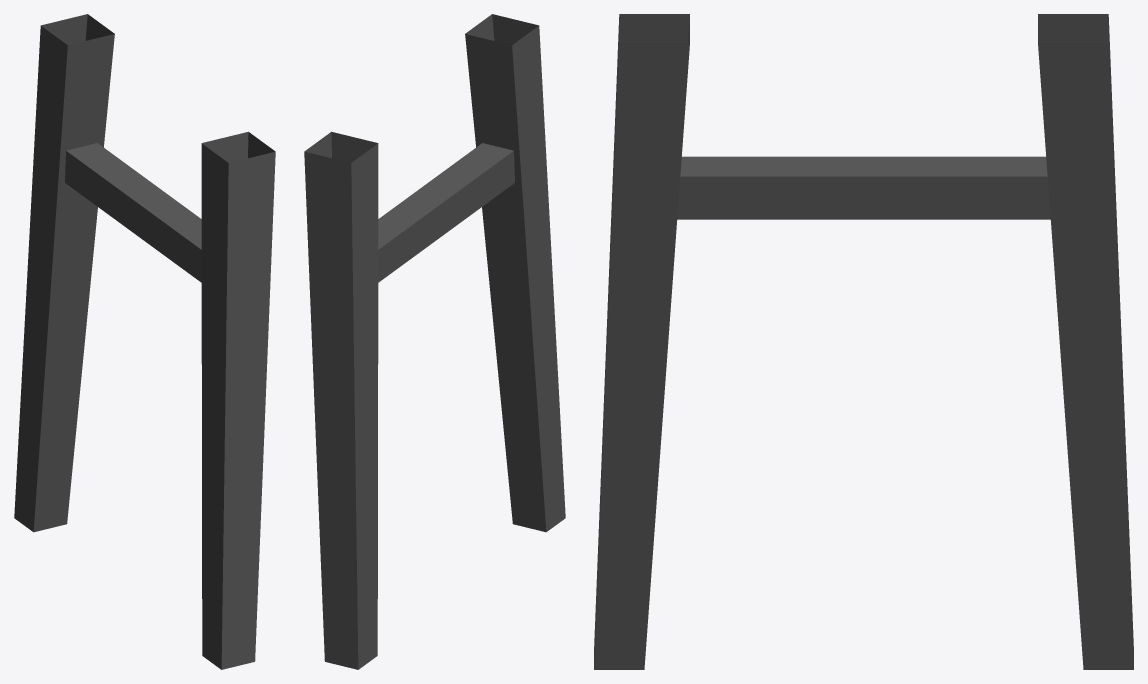
Rendered from Itr_Chair2_Leg_04.FBX.
The picture shows the model from 3 angles, left to right: view 1: azimuth 30°, elevation 25°; view 2: azimuth 150°, elevation 25°; view 3: azimuth 270°, elevation 25°; orthographic projection. The views are drawn at different scales.
Parts seen in each view (by area): view 1: Itr_Chair2_Leg_04; view 2: Itr_Chair2_Leg_04; view 3: Itr_Chair2_Leg_04.
Boxes of the visible parts, x1=… form: Itr_Chair2_Leg_04: x1=14, y1=14, x2=275, y2=669; Itr_Chair2_Leg_04: x1=304, y1=14, x2=565, y2=669; Itr_Chair2_Leg_04: x1=594, y1=14, x2=1133, y2=669.
Size of the model in its own units: 2.2 by 16.33 by 12.38.
